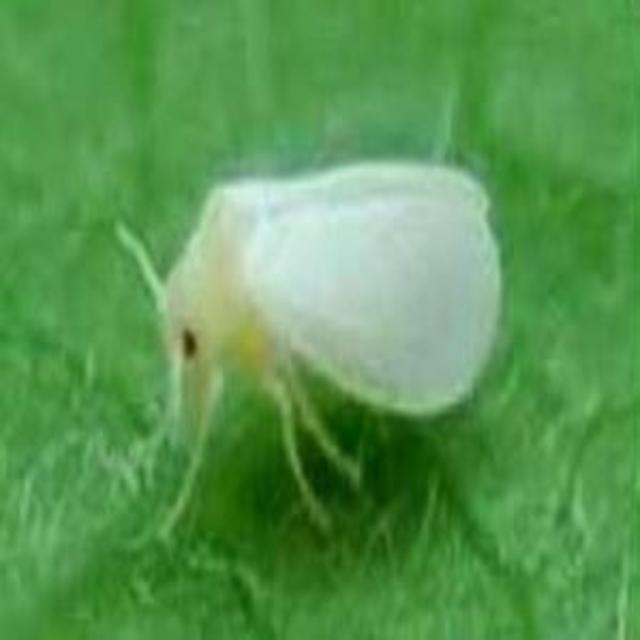Silverleaf whitefly: (100, 132, 518, 540)
